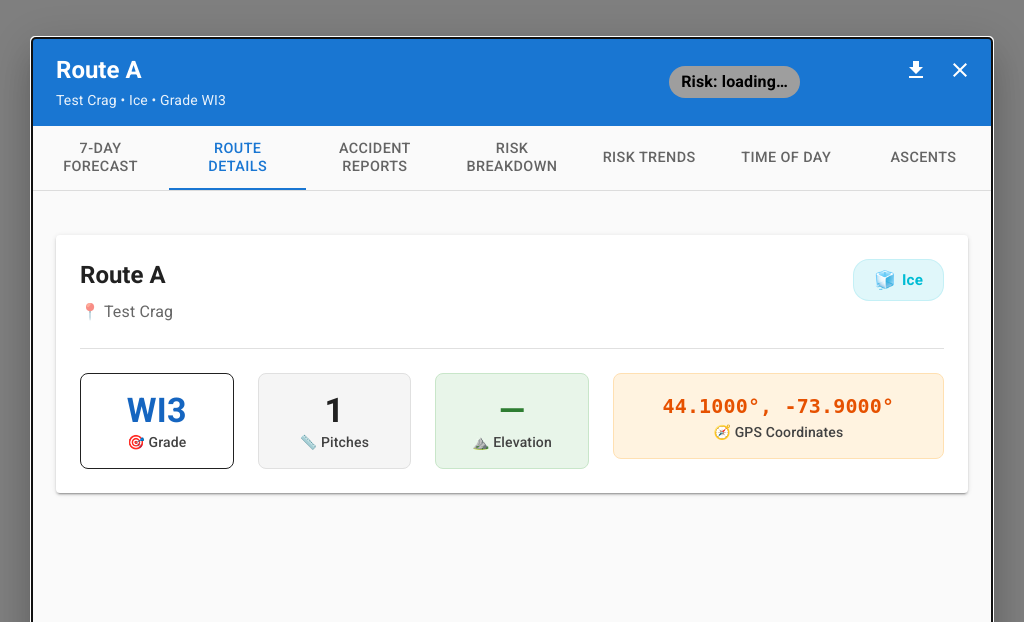
RouteAnalyticsModal accident and ascent figures › a side with no dated records gets no span
Click the tab "Ascents" at (923, 158), box [855,126,992,190]
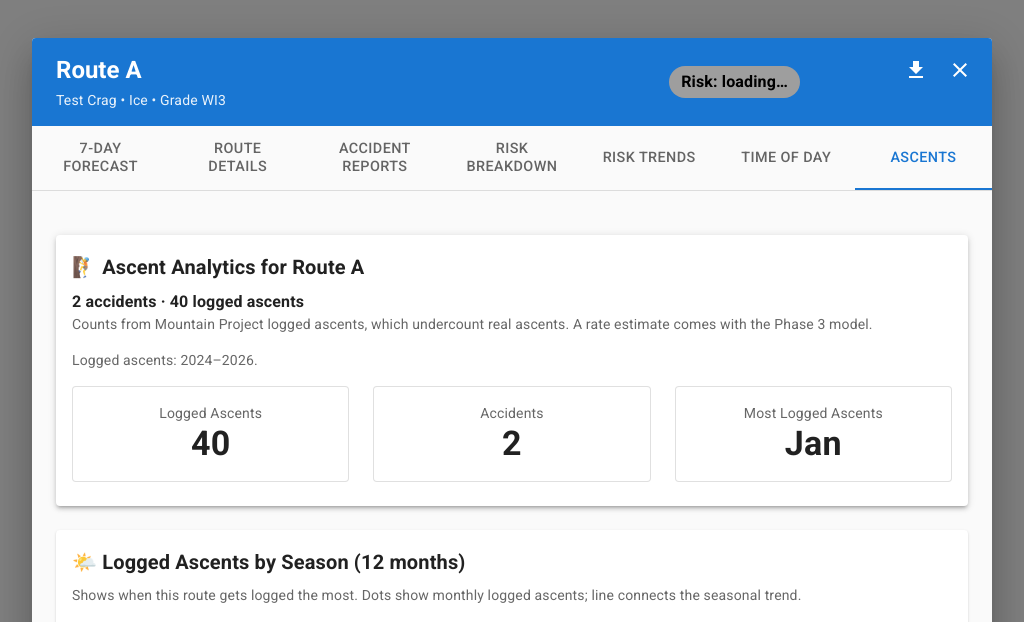
Expected: the text "Logged ascents: 2024–2026." is shown, [72,352,258,368]
